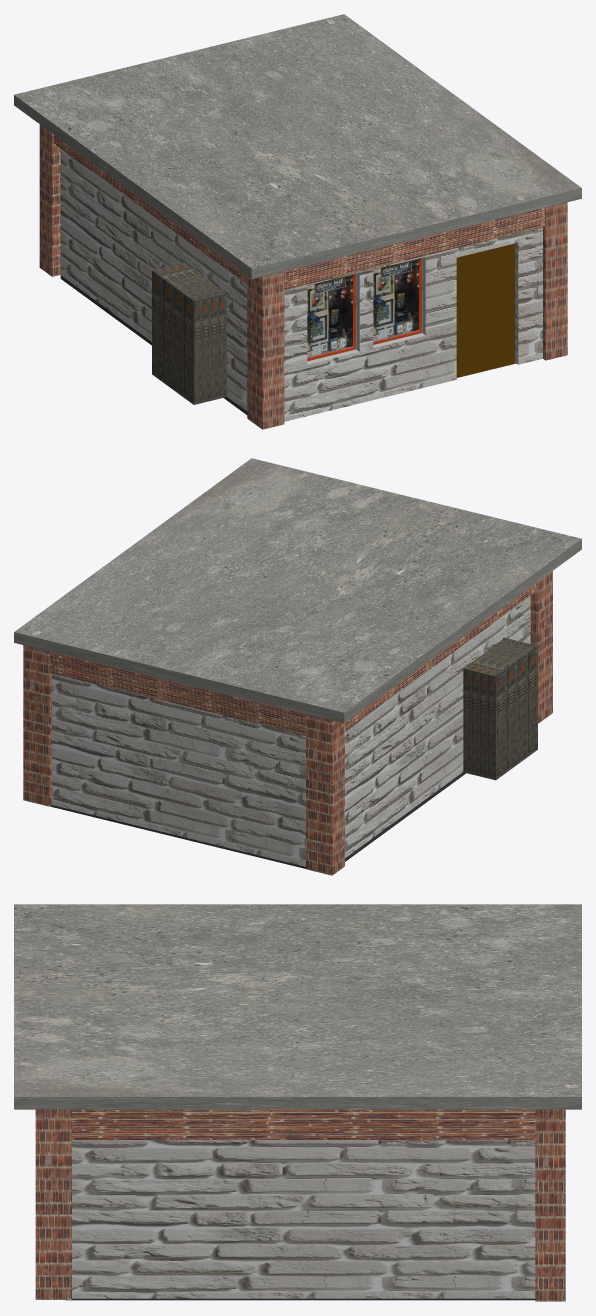
The model's file is gunshop.glb.
3 renders of one model, top to bottom at view 1: azimuth 30°, elevation 25°; view 2: azimuth 150°, elevation 25°; view 3: azimuth 270°, elevation 25°, orthographic. The views are drawn at different scales.
Parts seen in each view (by area): view 1: Cube_9, Cube_2, Cube_11, Cube_12, Cube_3_2.003, Cube_6, Cube_10, Cube_3_2.001, Cube, Cube_3_2.002, Cube_7.001; view 2: Cube_9, Cube_2, Cube_11, Cube_3_2.002, Cube_6.001, Cube_3_2, Cube_3_2.003, Cube_7.001, Куб.003; view 3: Cube_9, Cube_2, Cube_7, Cube_3_2.001, Cube_3_2, Куб.003.
Part boxes in pixels (x1=…): Cube_9: x1=14, y1=14, x2=581, y2=279; Cube_2: x1=60, y1=148, x2=542, y2=421; Cube_11: x1=152, y1=262, x2=226, y2=404; Cube_12: x1=456, y1=243, x2=514, y2=376; Cube_3_2.003: x1=247, y1=271, x2=284, y2=429; Cube_6: x1=284, y1=208, x2=544, y2=289; Cube_10: x1=307, y1=273, x2=356, y2=361; Cube_3_2.001: x1=543, y1=202, x2=567, y2=360; Cube: x1=373, y1=258, x2=422, y2=344; Cube_3_2.002: x1=39, y1=124, x2=60, y2=276; Cube_7.001: x1=53, y1=135, x2=247, y2=284; Cube_9: x1=14, y1=458, x2=581, y2=723; Cube_2: x1=52, y1=596, x2=530, y2=866; Cube_11: x1=463, y1=638, x2=537, y2=780; Cube_3_2.002: x1=306, y1=714, x2=344, y2=875; Cube_6.001: x1=50, y1=651, x2=305, y2=735; Cube_3_2: x1=23, y1=645, x2=51, y2=806; Cube_3_2.003: x1=530, y1=571, x2=552, y2=723; Cube_7.001: x1=345, y1=582, x2=537, y2=731; Куб.003: x1=50, y1=772, x2=465, y2=868; Cube_9: x1=14, y1=904, x2=581, y2=1109; Cube_2: x1=72, y1=1140, x2=535, y2=1298; Cube_7: x1=72, y1=1109, x2=535, y2=1140; Cube_3_2.001: x1=35, y1=1109, x2=71, y2=1299; Cube_3_2: x1=535, y1=1109, x2=565, y2=1301; Куб.003: x1=65, y1=1298, x2=535, y2=1300.
Bounding box in the file's own units: 174 × 86.71 × 212.
Materials: 9 (5 with a texture image).
